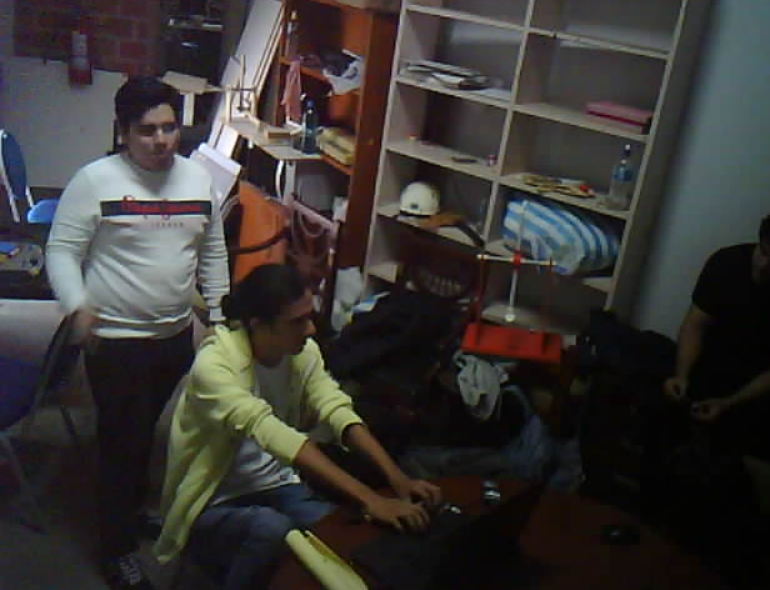person: (148, 230, 475, 590), (44, 43, 246, 590), (646, 139, 770, 507)
